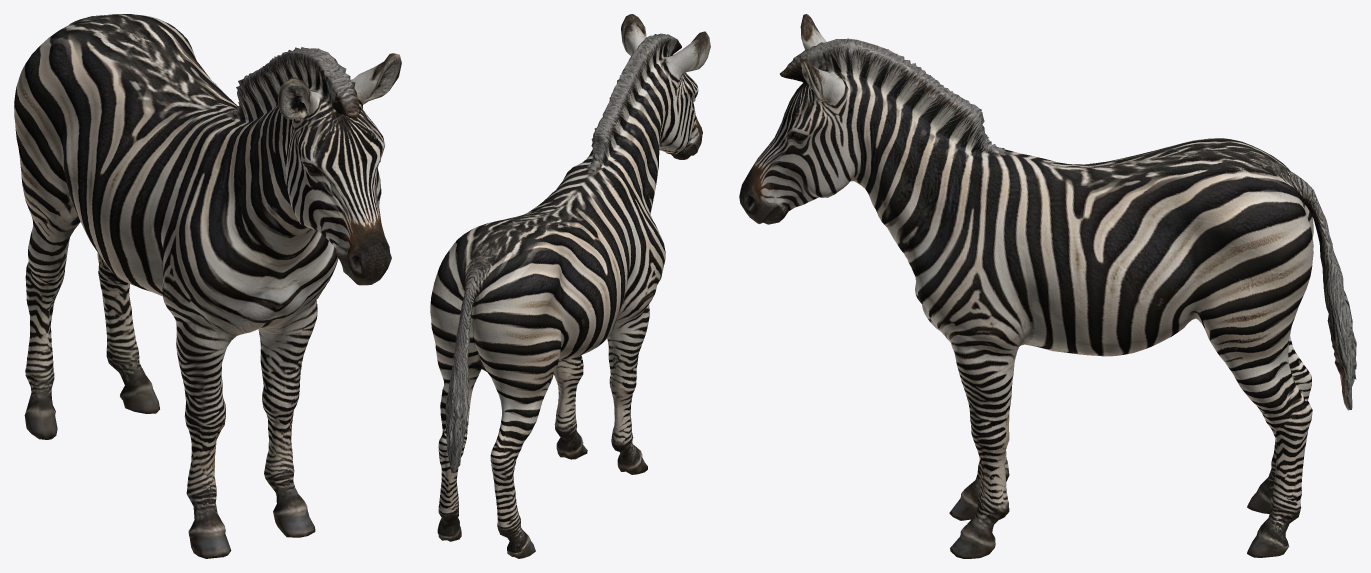
Rendered from zebra.glb.
3 renders of one model, left to right at view 1: azimuth 30°, elevation 25°; view 2: azimuth 150°, elevation 25°; view 3: azimuth 270°, elevation 25°, orthographic. The views are drawn at different scales.
Visible parts, largest first — view 1: tripo_node_42539b17-da55-4617-810c-586be271545b; view 2: tripo_node_42539b17-da55-4617-810c-586be271545b; view 3: tripo_node_42539b17-da55-4617-810c-586be271545b.
Part boxes in pixels (left/top/right/bottom): tripo_node_42539b17-da55-4617-810c-586be271545b: left=14, top=14, right=401, bottom=558; tripo_node_42539b17-da55-4617-810c-586be271545b: left=430, top=14, right=710, bottom=558; tripo_node_42539b17-da55-4617-810c-586be271545b: left=739, top=14, right=1356, bottom=558.
Bounding box in the file's own units: 0.2955 × 0.8886 × 1.
Materials: 1 (1 with a texture image).
